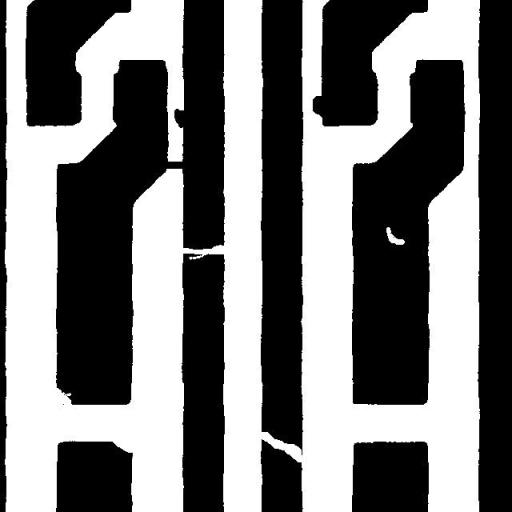mousebite: (105, 430, 143, 460), (46, 380, 78, 414)
open: (244, 420, 314, 470), (167, 237, 234, 267)
pin-hole: (378, 219, 412, 252)
short: (152, 154, 194, 176)
spur: (305, 88, 334, 126), (166, 101, 194, 135)
